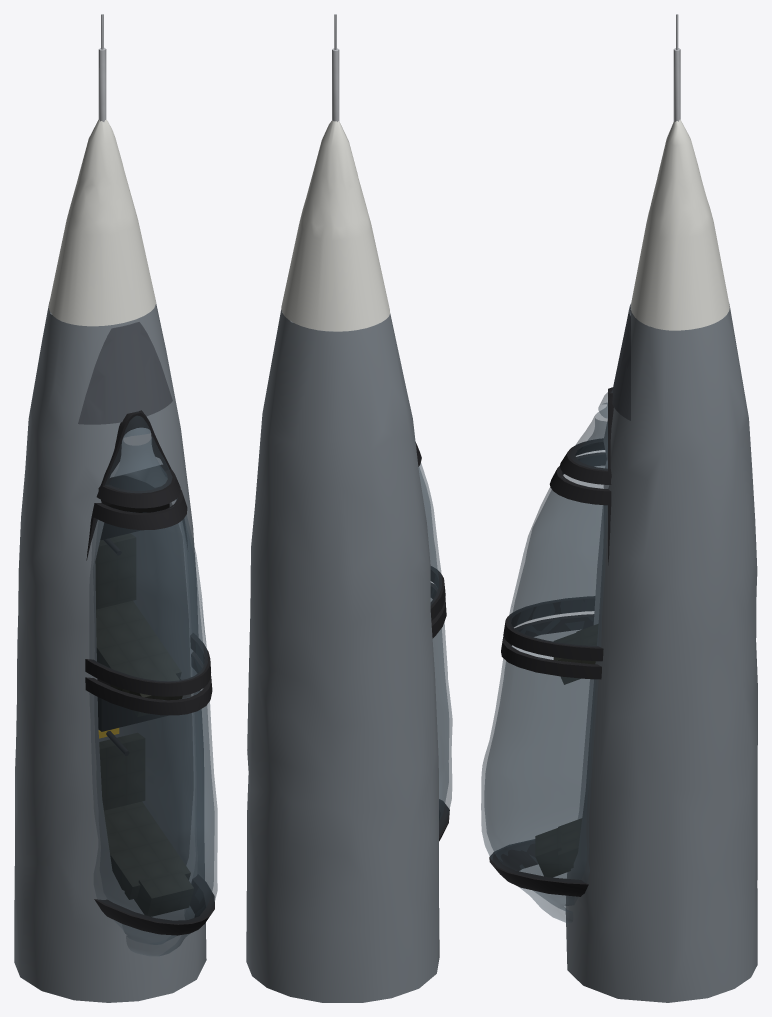
File: cockpit01_tandem_canopy.glb
3 renders of one model, left to right at view 1: azimuth 30°, elevation 25°; view 2: azimuth 150°, elevation 25°; view 3: azimuth 270°, elevation 25°, orthographic.
Visible parts, largest first — view 1: fuselage, rear_canopy_glass, front_canopy_glass, radome, rear_seat, front_seat, antiglare_panel, rear_canopy_frame, front_canopy_frame, windscreen_glass, windscreen_frame, front_panel (+2 smaller); view 2: fuselage, radome, rear_canopy_glass, front_canopy_glass, rear_canopy_frame, pitot_probe, front_canopy_frame; view 3: fuselage, rear_canopy_glass, radome, front_canopy_glass, rear_canopy_frame, front_canopy_frame, rear_seat, windscreen_frame, windscreen_glass, antiglare_panel, front_seat, pitot_probe.
Part boxes in pixels (<box>): fuselage: <box>14,301,206,1002</box>; rear_canopy_glass: <box>89,669,217,956</box>; front_canopy_glass: <box>89,498,207,681</box>; radome: <box>48,119,156,326</box>; rear_seat: <box>99,733,193,916</box>; front_seat: <box>95,533,182,716</box>; antiglare_panel: <box>78,322,172,424</box>; rear_canopy_frame: <box>85,651,214,935</box>; front_canopy_frame: <box>85,489,210,696</box>; windscreen_glass: <box>105,411,172,492</box>; windscreen_frame: <box>96,410,180,508</box>; front_panel: <box>100,475,169,539</box>; fuselage: <box>246,309,439,1002</box>; radome: <box>281,120,389,331</box>; rear_canopy_glass: <box>431,597,452,834</box>; front_canopy_glass: <box>418,463,441,604</box>; rear_canopy_frame: <box>430,583,449,841</box>; pitot_probe: <box>332,14,339,121</box>; front_canopy_frame: <box>415,442,445,620</box>; fuselage: <box>565,304,757,1002</box>; rear_canopy_glass: <box>481,629,598,923</box>; radome: <box>630,119,729,330</box>; front_canopy_glass: <box>508,465,607,646</box>; rear_canopy_frame: <box>489,614,601,896</box>; front_canopy_frame: <box>503,452,611,661</box>; rear_seat: <box>535,818,582,877</box>; windscreen_frame: <box>560,387,613,484</box>; windscreen_glass: <box>570,391,612,470</box>; antiglare_panel: <box>612,304,630,420</box>; front_seat: <box>553,624,598,684</box>; pitot_probe: <box>673,14,680,121</box>.
Bounding box in the file's own units: 1.25 × 6.8 × 1.8.
Materials: 9 (2 with a texture image).
